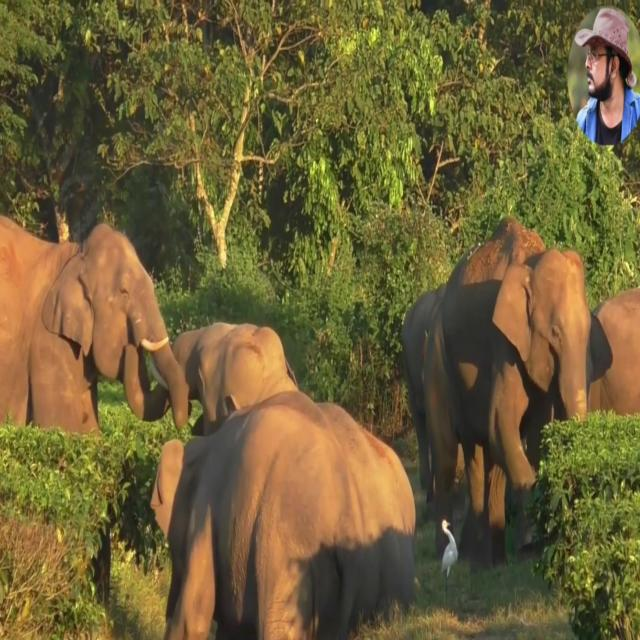Elephant: (150, 390, 416, 640), (0, 214, 192, 438), (151, 320, 299, 437), (586, 286, 640, 417)
person: (574, 6, 640, 145)
